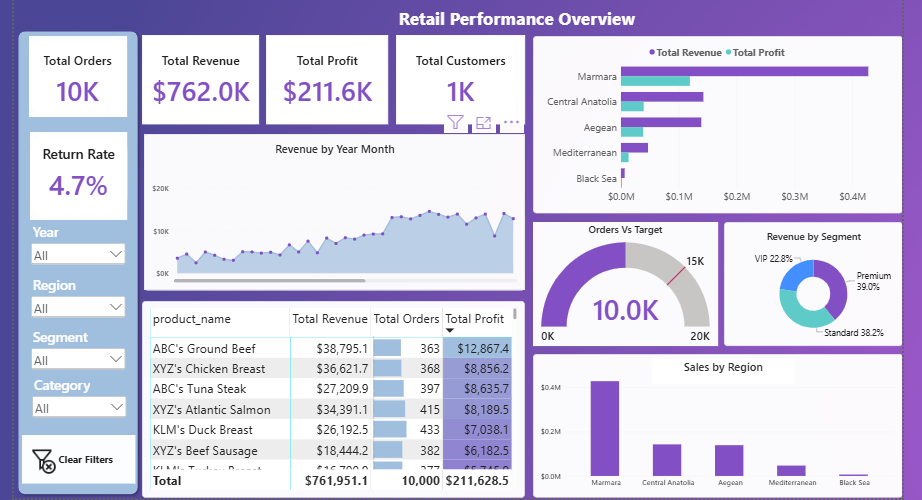

The dashboard page shown, as its layout file describes it:
{"tool":"powerbi","page":{"name":"Page 1","canvas":[1920,1080],"ordinal":0},"visuals":[{"type":"group","id":"g1","title":"BG","box":[0,17,1919.8,1063],"z":0},{"type":"shape","box":[0,61.6,276.4,1018.3],"z":0,"group":"g1"},{"type":"donutChart","title":"Revenue by Segment","fields":{"Category":["customers.customer_segment"],"Y":["measures_table.total_revenue"]},"box":[1532.8,484.7,386.1,268.2],"z":1000},{"type":"textbox","box":[276.4,17,1620,63.8],"z":2000,"group":"g1"},{"type":"pivotTable","fields":{"Rows":["products.product_name"],"Values":["measures_table.total_revenue","measures_table.Total Orders","measures_table.Total Profit"]},"box":[276.4,654.8,827,425.2],"z":2000},{"type":"clusteredBarChart","fields":{"Category":["customers.region"],"Y":["measures_table.total_revenue","measures_table.total_profit"]},"box":[1120.4,80.8,799.4,382.7],"z":3000,"group":"g1"},{"type":"gauge","title":"Orders Vs Target","fields":{"Y":["measures_table.total_orders"]},"box":[1120.4,484.7,399.7,267.9],"z":3000},{"type":"cardVisual","fields":{"Data":["measures_table.total_revenue"]},"box":[276.4,80.8,253,193.5],"z":4000},{"type":"clusteredColumnChart","fields":{"Category":["customers.region"],"Y":["Sum(order_details.net_sale)"]},"box":[1120.4,769.6,799.4,310.4],"z":4000,"group":"g1"},{"type":"cardVisual","fields":{"Data":["measures_table.total_profit"]},"box":[544.3,80.8,263.6,193.5],"z":5000},{"type":"cardVisual","fields":{"Data":["measures_table.total_customers"]},"box":[824.9,80.8,278.5,193.5],"z":6000},{"type":"slicer","fields":{"Values":["date_table.Year"]},"box":[31.9,484.7,212.6,112.7],"z":7000},{"type":"slicer","fields":{"Values":["customers.region"]},"box":[31.9,597.4,212.6,112.7],"z":8000},{"type":"slicer","fields":{"Values":["customers.customer_segment"]},"box":[31.9,710.1,212.6,112.7],"z":9000},{"type":"shape","box":[34.6,289.1,209.5,190.1],"z":10000,"group":"g1"},{"type":"slicer","fields":{"Values":["categories.category_name"]},"box":[34.6,814.3,212.6,108.4],"z":10000},{"type":"shape","box":[32.4,82.1,211.7,175],"z":11000},{"type":"lineChart","title":"Revenue by Year Month","fields":{"Category":["date_table.Year Month"],"Y":["measures_table.Total Revenue"]},"box":[280.8,293.8,822.8,338],"z":12000},{"type":"shape","box":[17.2,943.9,244.6,105.1],"z":12000,"group":"g1"},{"type":"textbox","box":[1377.6,780.2,308.3,55.3],"z":13000},{"type":"image","box":[17.2,967.5,85.8,60.1],"z":13000,"group":"g1"},{"type":"textbox","box":[62.6,980.3,184.5,53.6],"z":14000,"group":"g1"},{"type":"cardVisual","fields":{"Data":["measures_table.Return Rate"]},"box":[34,323.1,210.5,110.6],"z":15000},{"type":"cardVisual","fields":{"Data":["measures_table.Total Orders"]},"box":[31.9,123.3,210.5,110.6],"z":16000}]}

Visuals, with their boxes in screenshot pixels (x1, y1, x2, y2):
"BG" group: box=[14, 8, 890, 493]
shape: box=[14, 28, 140, 492]
"Revenue by Segment" donutChart: box=[713, 221, 889, 343]
textbox: box=[140, 8, 879, 37]
pivotTable - products.product_name x measures_table.total_revenue: box=[140, 299, 518, 493]
clusteredBarChart - customers.region x measures_table.total_revenue: box=[525, 37, 890, 211]
"Orders Vs Target" gauge: box=[525, 221, 708, 343]
cardVisual - measures_table.total_revenue: box=[140, 37, 256, 125]
clusteredColumnChart - customers.region x Sum(order_details.net_sale): box=[525, 351, 890, 493]
cardVisual - measures_table.total_profit: box=[263, 37, 383, 125]
cardVisual - measures_table.total_customers: box=[391, 37, 518, 125]
slicer - date_table.Year: box=[29, 221, 126, 272]
slicer - customers.region: box=[29, 272, 126, 324]
slicer - customers.customer_segment: box=[29, 324, 126, 375]
shape: box=[30, 132, 126, 219]
slicer - categories.category_name: box=[30, 371, 127, 421]
shape: box=[29, 37, 126, 117]
"Revenue by Year Month" lineChart: box=[142, 134, 518, 288]
shape: box=[22, 430, 134, 478]
textbox: box=[643, 356, 783, 381]
image: box=[22, 441, 61, 469]
textbox: box=[43, 447, 127, 471]
cardVisual - measures_table.Return Rate: box=[30, 147, 126, 198]
cardVisual - measures_table.Total Orders: box=[29, 56, 125, 107]
